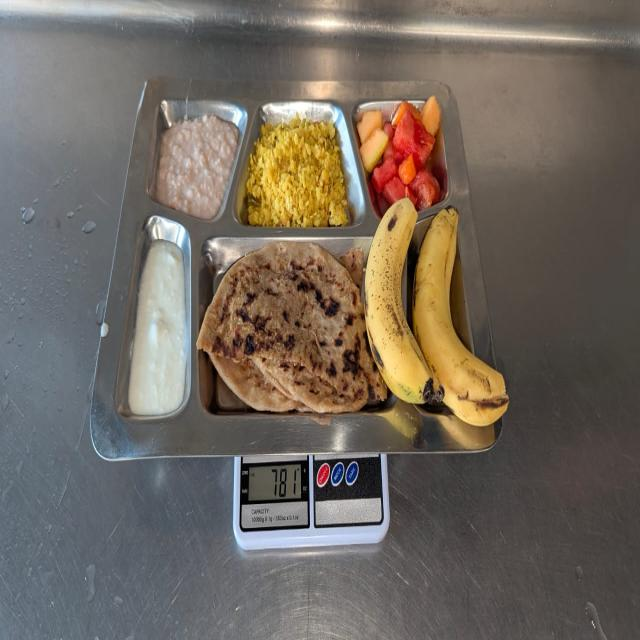Banana: (368, 197, 510, 424)
Chapati: (200, 240, 370, 416)
Curd: (128, 236, 189, 423)
Mix Fruit: (358, 98, 450, 206)
Poha: (247, 110, 354, 227)
Porridge: (158, 110, 240, 222)
